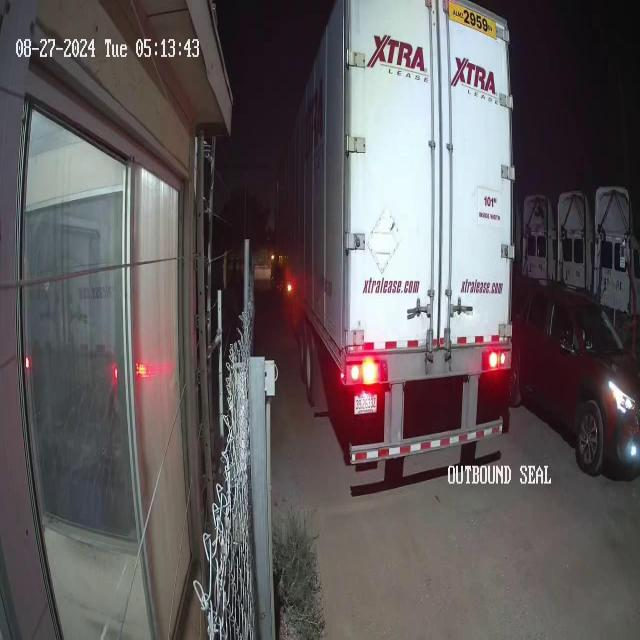TRUCK_OUT: (276, 1, 516, 475)
